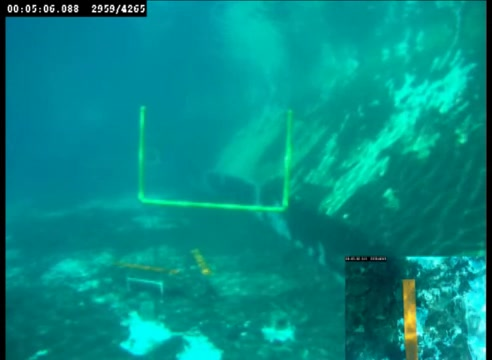channel: (129, 104, 297, 214)
